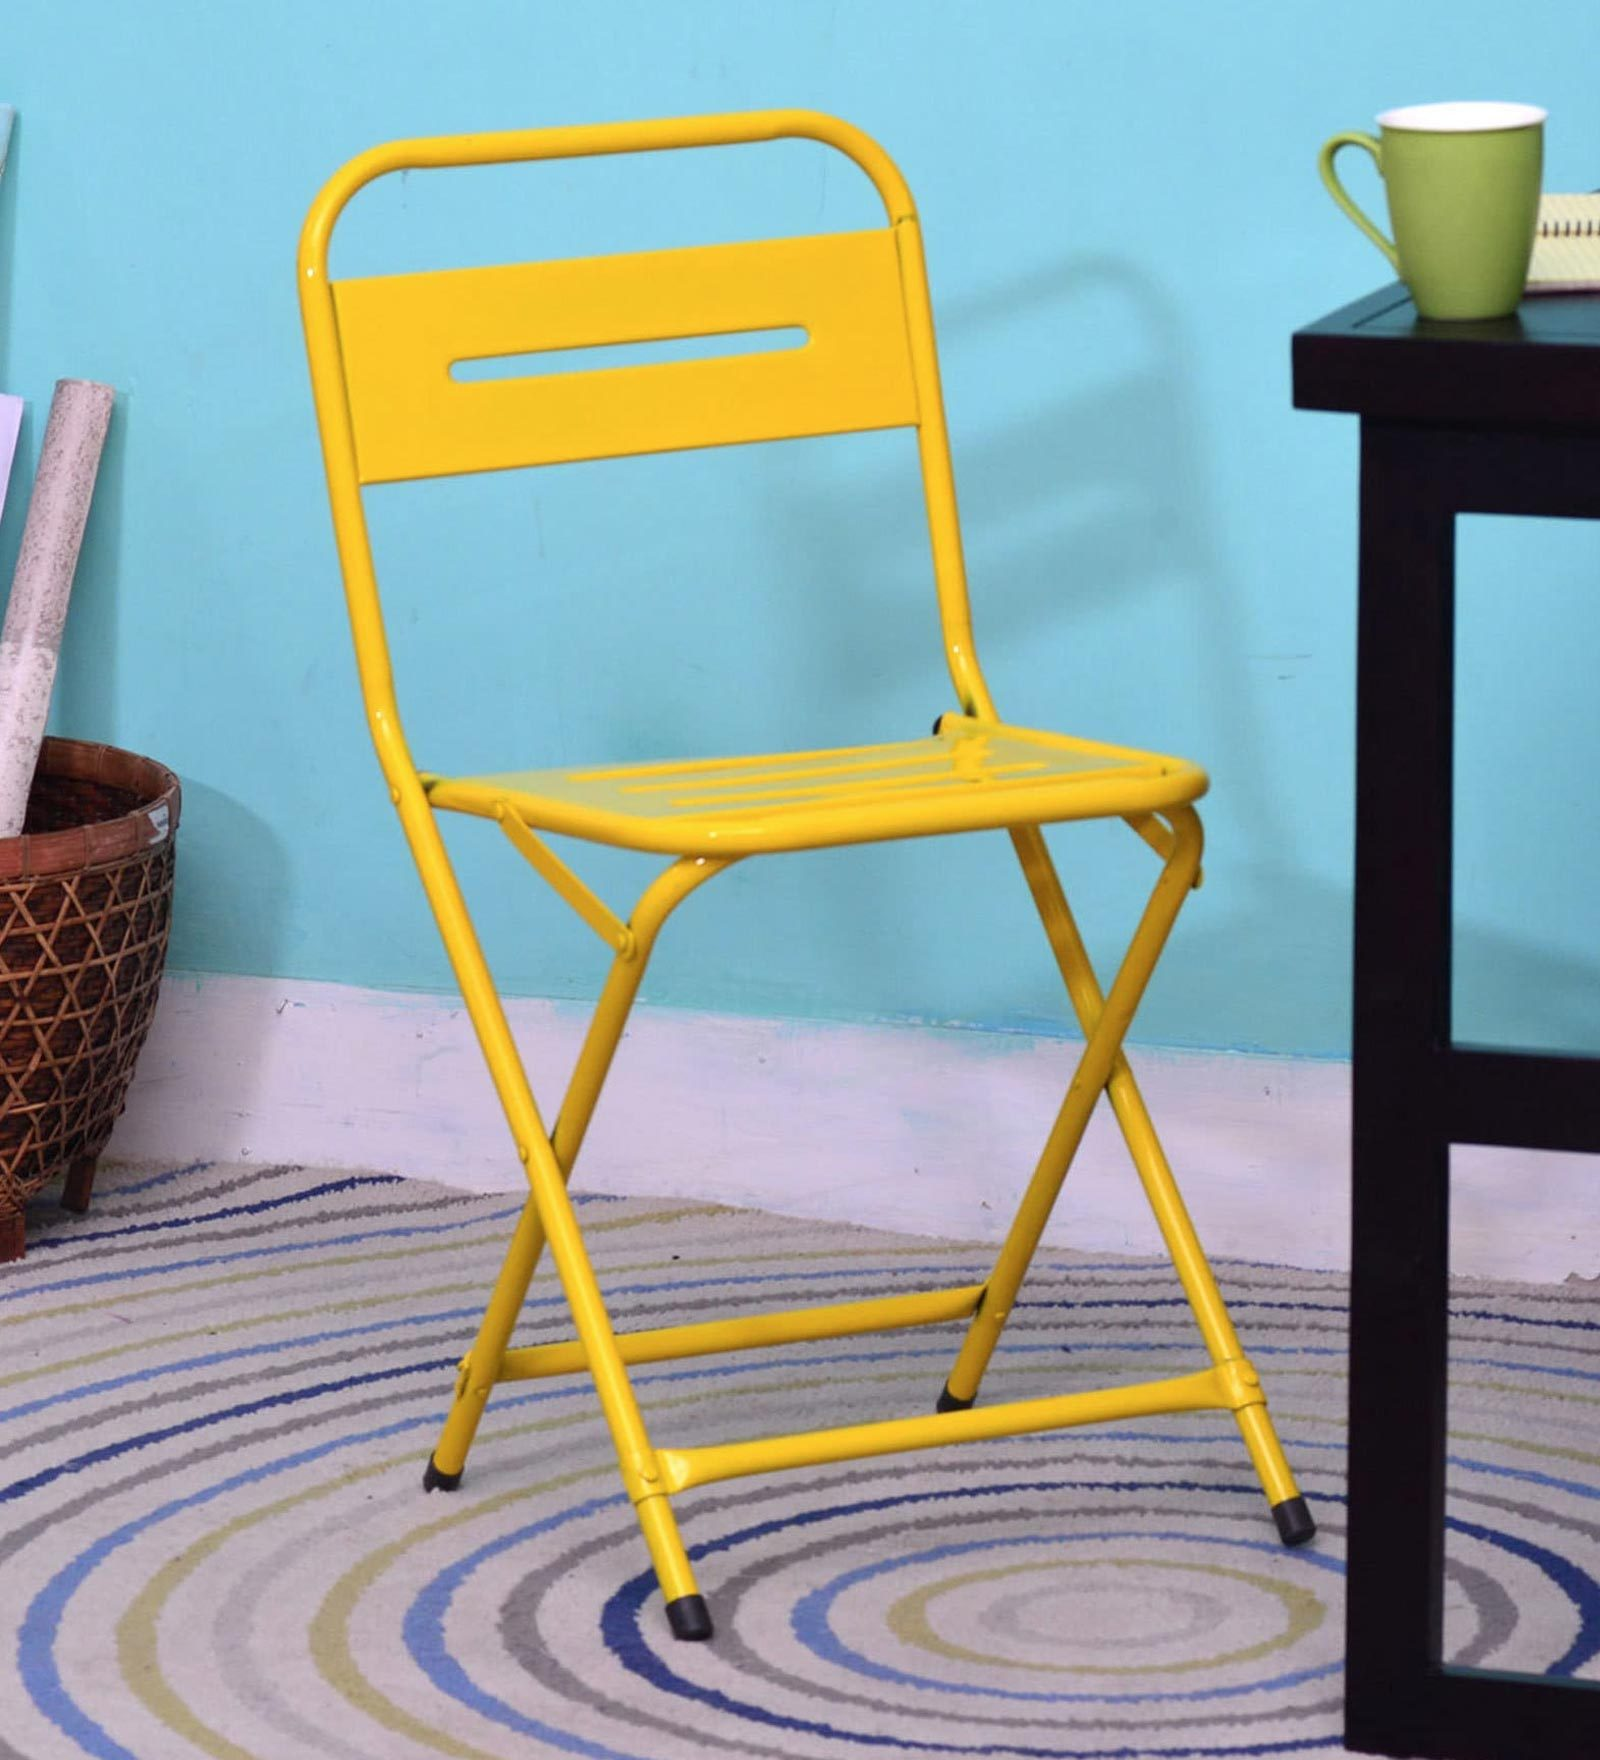Marandoo Grunge Outdoor Folding Chair in Yellow Colour by Bohemiana: (293, 113, 1320, 1645)
